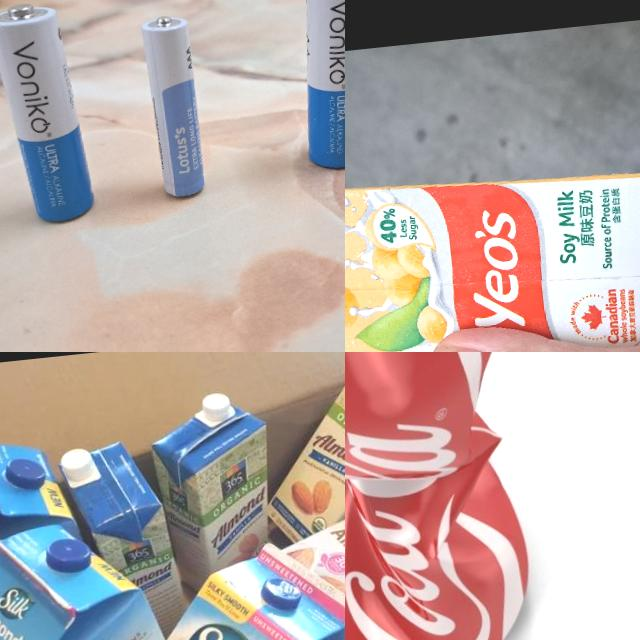bateria: (0, 0, 94, 228), (138, 12, 208, 200), (288, 0, 345, 173)
caixinha: (345, 144, 640, 352), (44, 532, 345, 640), (58, 435, 191, 640), (148, 400, 284, 598), (0, 511, 173, 640), (253, 353, 345, 545), (0, 415, 84, 583), (277, 484, 345, 626)
lata: (345, 352, 554, 640)
tampa plástica: (42, 534, 94, 576), (260, 575, 304, 612), (4, 454, 46, 492), (58, 445, 98, 484), (201, 390, 233, 422)
